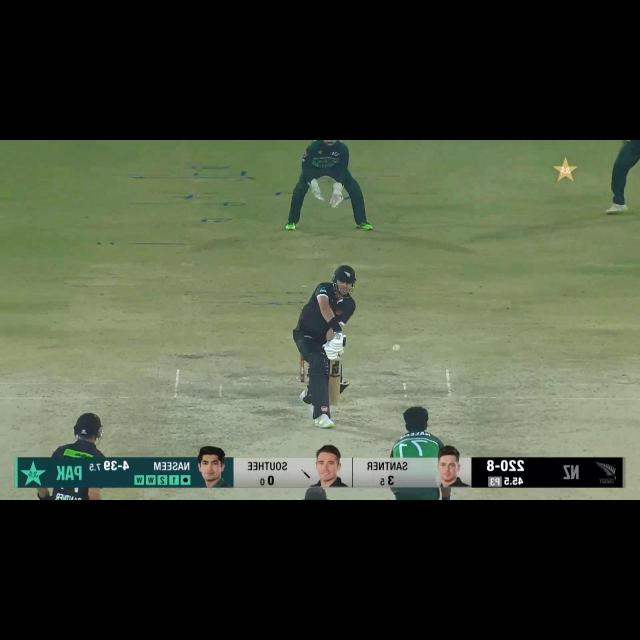bat: (328, 360, 340, 405)
toe: (327, 397, 342, 408)
